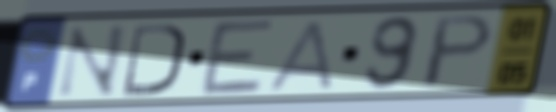9: (363, 14, 422, 93)
A: (265, 18, 337, 93)
D: (119, 21, 187, 98)
E: (197, 16, 279, 99)
N: (52, 22, 131, 100)
P: (417, 12, 499, 91)
